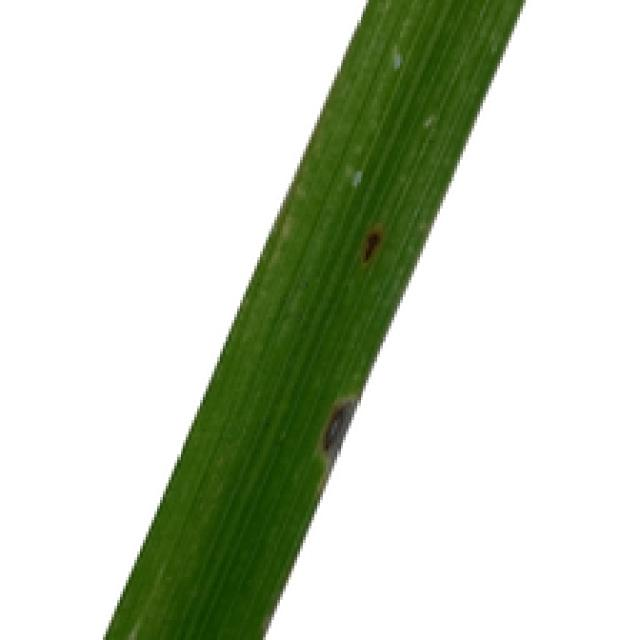Rice___Rice_Blast: (104, 0, 528, 637)
